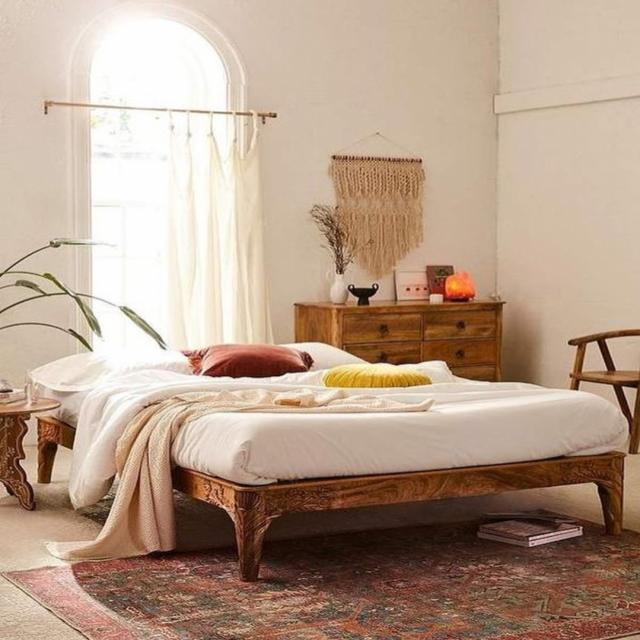bed: (33, 316, 626, 567)
